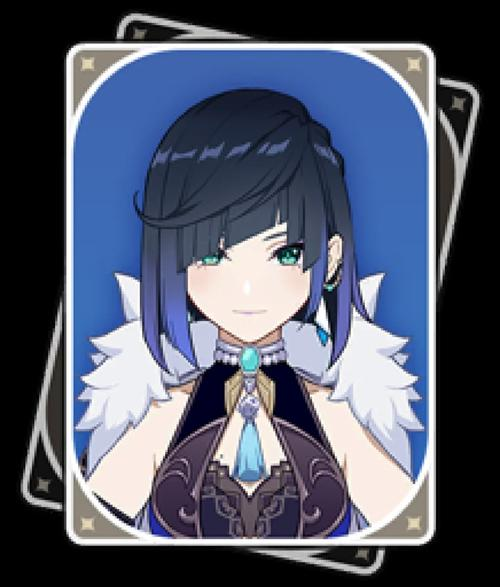夜兰: (81, 77, 421, 533)
